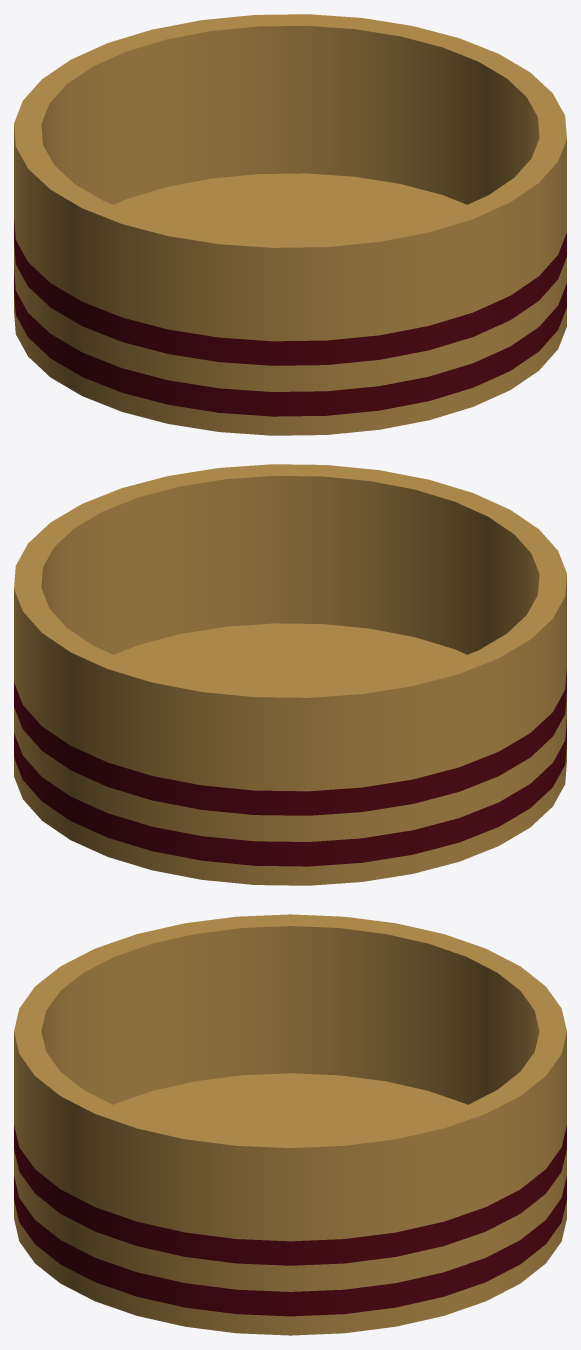
Rendered from 3_basin_1.fbx.
3 renders of one model, top to bottom at view 1: azimuth 30°, elevation 25°; view 2: azimuth 150°, elevation 25°; view 3: azimuth 270°, elevation 25°, orthographic.
Visible parts, largest first — view 1: 3_basin_1; view 2: 3_basin_1; view 3: 3_basin_1.
Boxes of the visible parts, x1=… form: 3_basin_1: x1=14, y1=14, x2=566, y2=435; 3_basin_1: x1=14, y1=464, x2=566, y2=885; 3_basin_1: x1=14, y1=914, x2=566, y2=1335.
Size of the model in its own units: 87.54 by 32.74 by 87.54.
